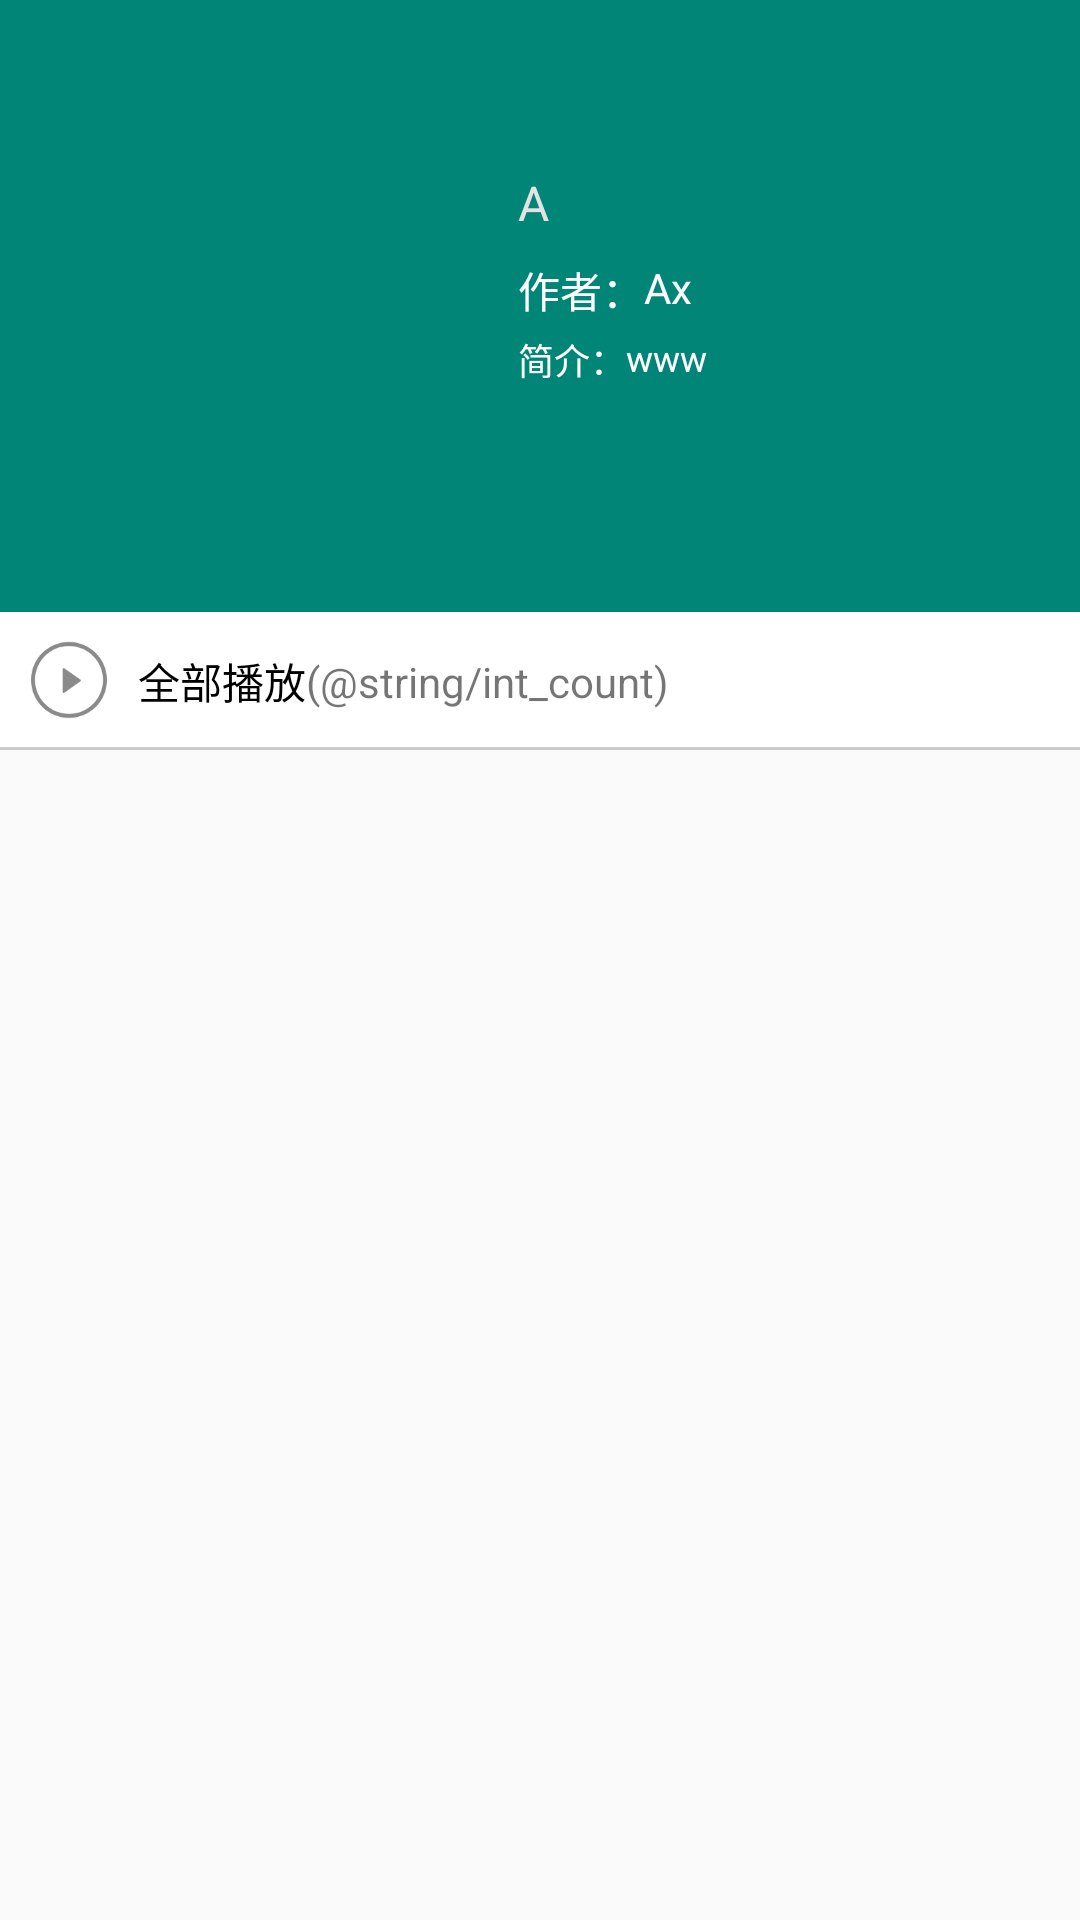

Icon bounding boxes for this 1080x1920 phone screenshot, format (x1, y1, x2, y2):
play: (31, 642, 107, 718)
